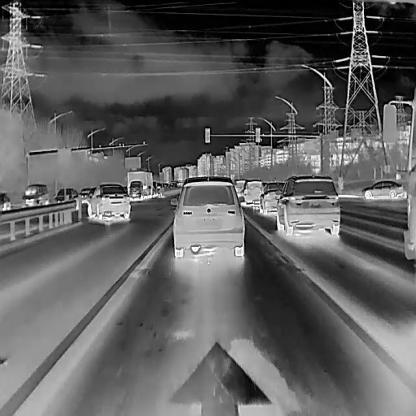car: (170, 176, 245, 257), (275, 175, 339, 234), (86, 183, 129, 223), (360, 179, 403, 199), (126, 170, 153, 201), (259, 180, 284, 212), (20, 182, 50, 208), (239, 178, 263, 207), (53, 187, 77, 204), (77, 184, 96, 202), (0, 188, 10, 215)
